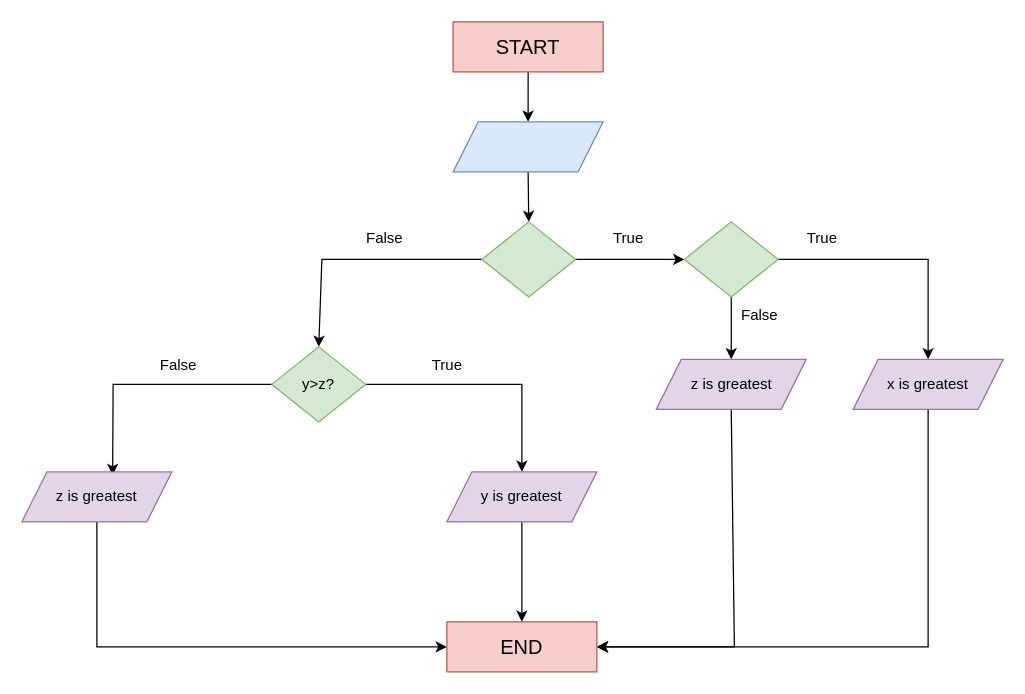
Some shapes in this 1025 by 694 pixel diagram are drawn without their labels. Each missing label, with the centre of its shape:
Input x, y, z: the point at 527,146
x>y?: the point at 528,259
x>z?: the point at 730,259
